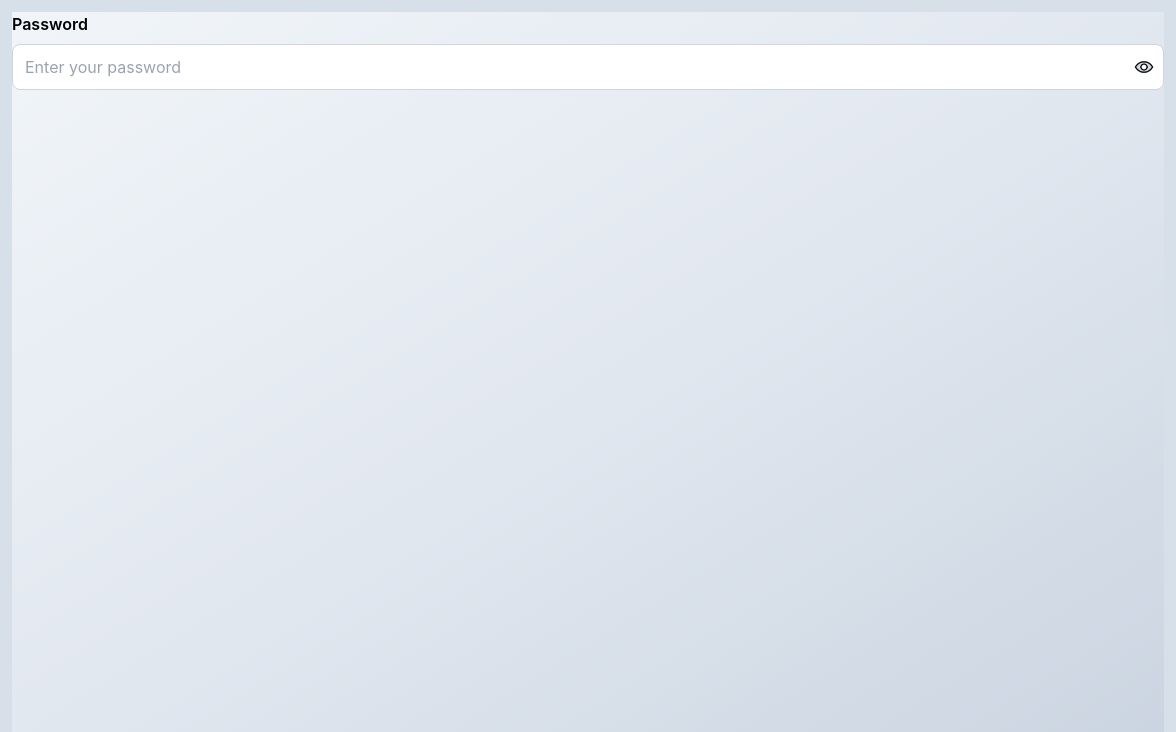
it: PasswordInput Component › shows error when uppercase letter is missing
Type "abcdef@123" into the password field with placeholder "Enter your password" at (588, 67), box [12, 44, 1164, 90]
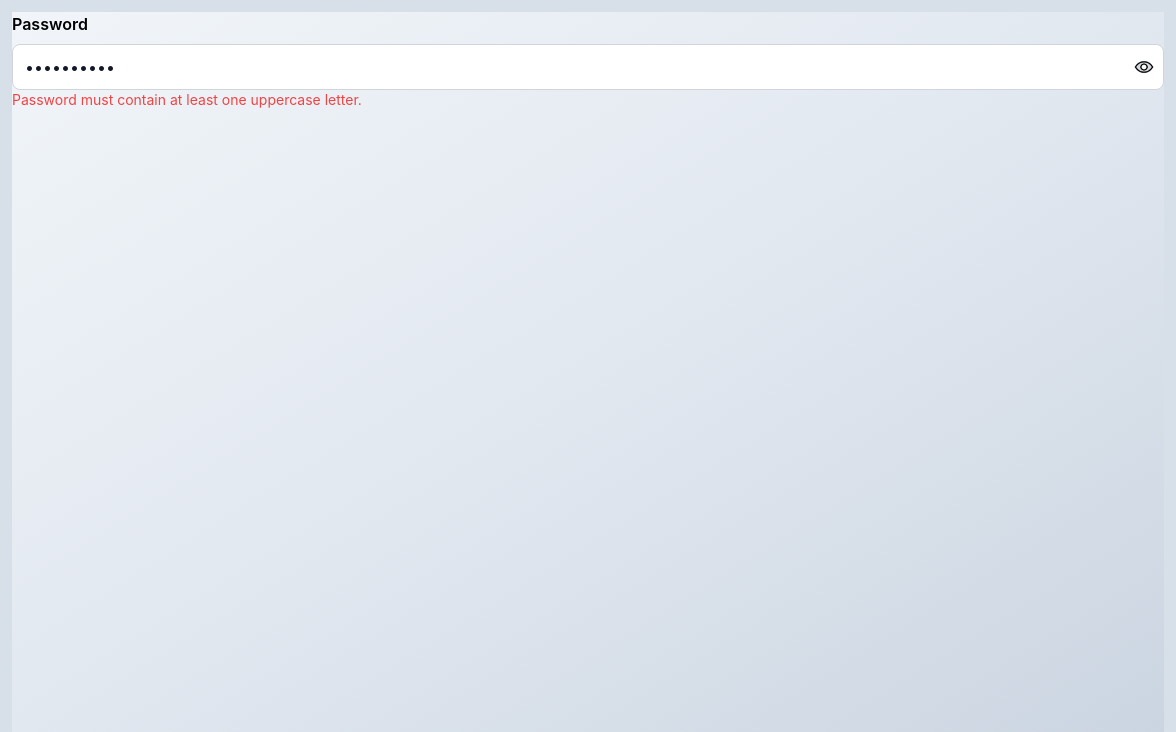
Expected: the text "Password must contain at least one uppercase letter." is shown, [12, 91, 362, 108]
